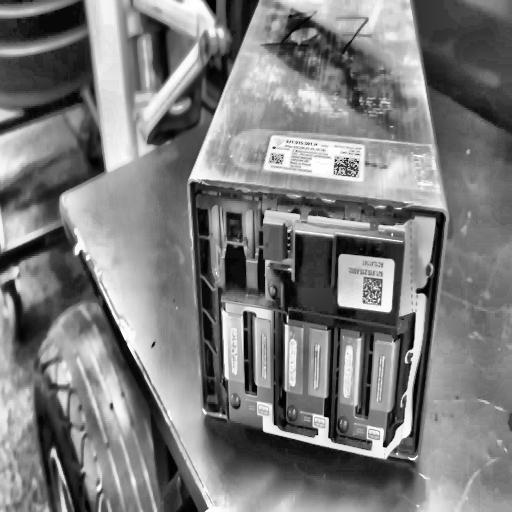battery_module: (188, 0, 447, 465)
